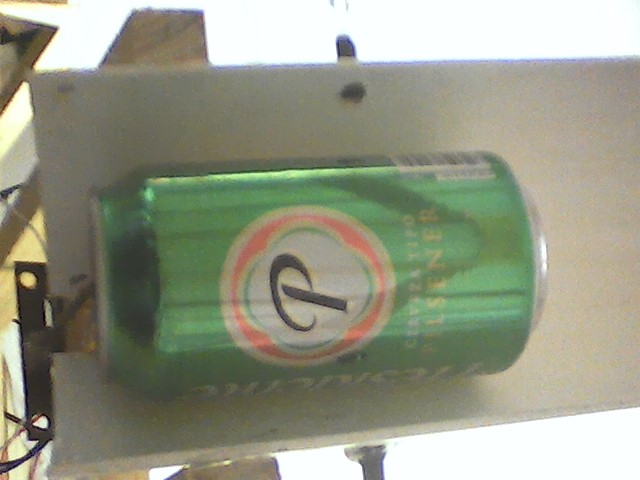lata: (81, 150, 551, 401)
